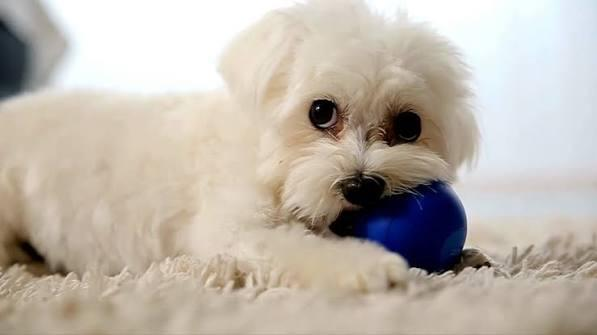puppy-dog: (1, 3, 483, 297)
